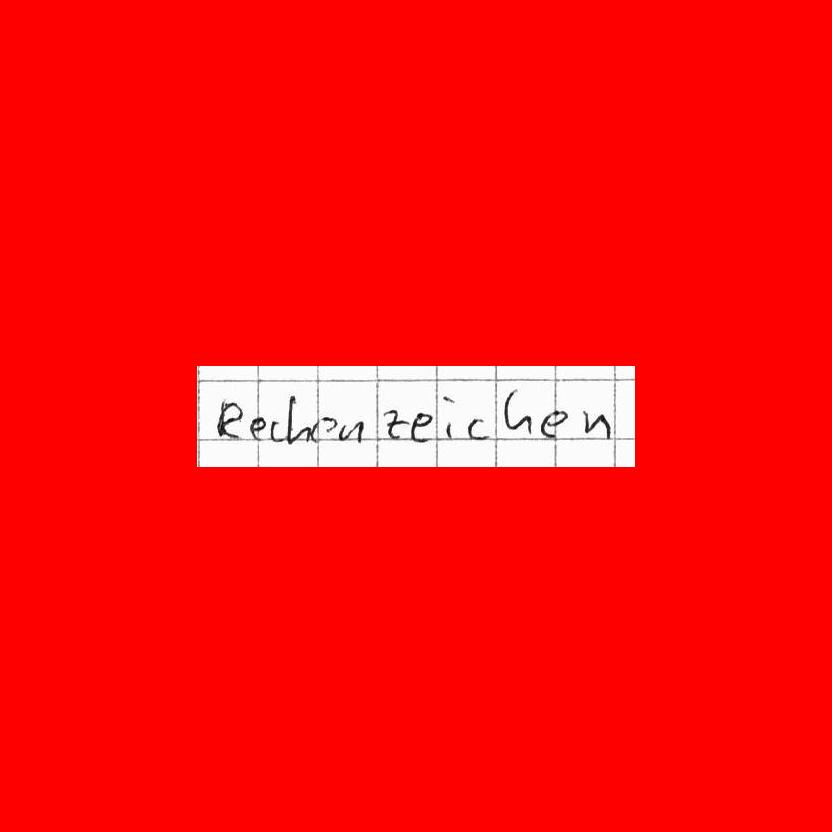Char: (285, 394, 316, 448), (501, 386, 534, 433), (214, 399, 241, 442), (580, 406, 609, 437), (408, 410, 434, 444), (440, 393, 458, 441), (540, 409, 569, 437), (382, 407, 404, 439), (338, 417, 365, 443), (465, 415, 489, 440), (249, 413, 266, 440), (321, 413, 338, 438), (267, 418, 283, 441)
